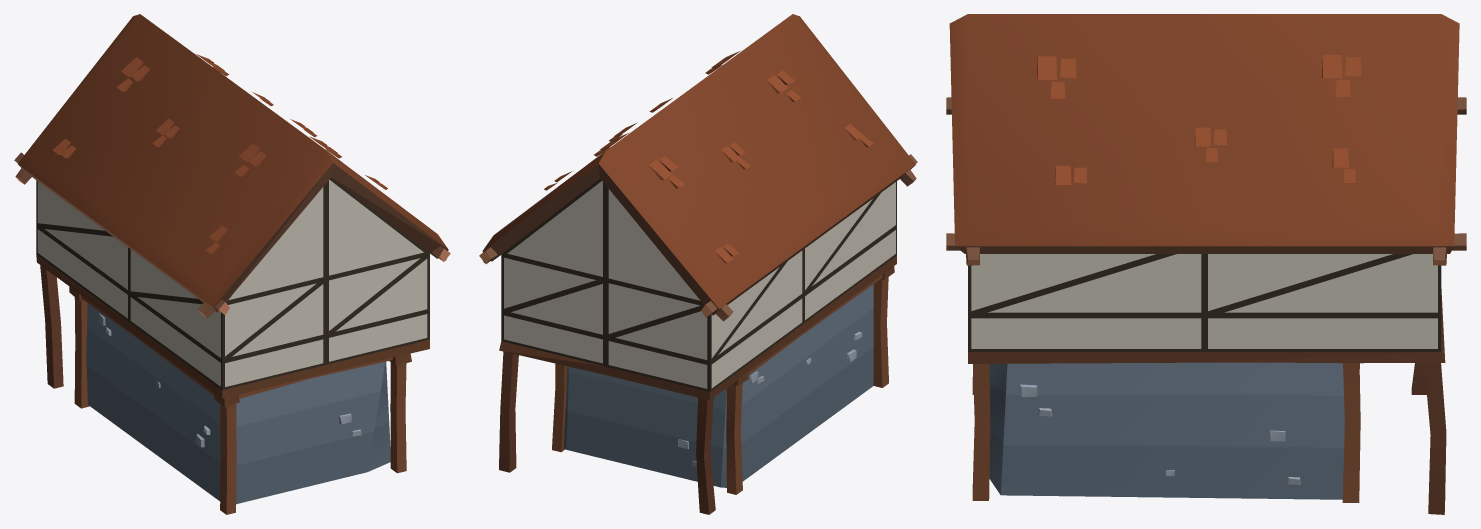
Rendered from mill-ver2-base.glb.
3 views of the same model, side by side, from view 1: azimuth 30°, elevation 25°; view 2: azimuth 150°, elevation 25°; view 3: azimuth 270°, elevation 25° (orthographic). The views are drawn at different scales.
Parts seen in each view (by area): view 1: Mill-ver2-base_Texture-base_0; view 2: Mill-ver2-base_Texture-base_0; view 3: Mill-ver2-base_Texture-base_0.
Part boxes in pixels (x1,y1,x2,y2): Mill-ver2-base_Texture-base_0: (14,14,450,514); Mill-ver2-base_Texture-base_0: (479,14,917,514); Mill-ver2-base_Texture-base_0: (946,14,1466,514).
Bounding box in the file's own units: 6.93 × 9.12 × 9.87.
Materials: 1 (1 with a texture image).
